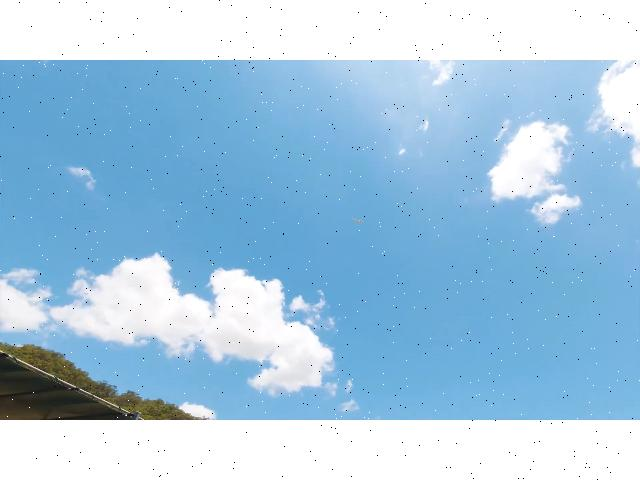Anti-Drone: (340, 208, 380, 236)
